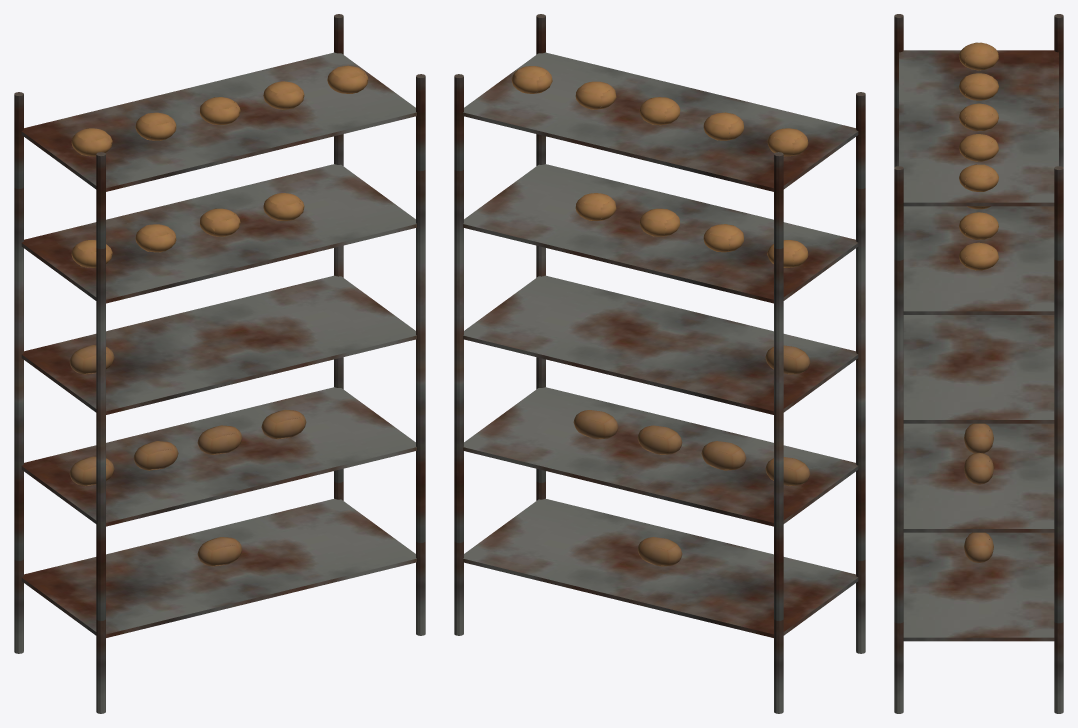
File: W11_BakeryRack.glb
3 renders of one model, left to right at view 1: azimuth 30°, elevation 25°; view 2: azimuth 150°, elevation 25°; view 3: azimuth 270°, elevation 25°, orthographic. The views are drawn at different scales.
Parts seen in each view (by area): view 1: W11_BakeryRack; view 2: W11_BakeryRack; view 3: W11_BakeryRack.
Part boxes in pixels (x1,y1,x2,y2): W11_BakeryRack: (14,14,425,713); W11_BakeryRack: (454,14,865,713); W11_BakeryRack: (894,14,1063,713).
Bounding box in the file's own units: 0.9228 × 1.5 × 0.424.
Materials: 3 (3 with a texture image).
